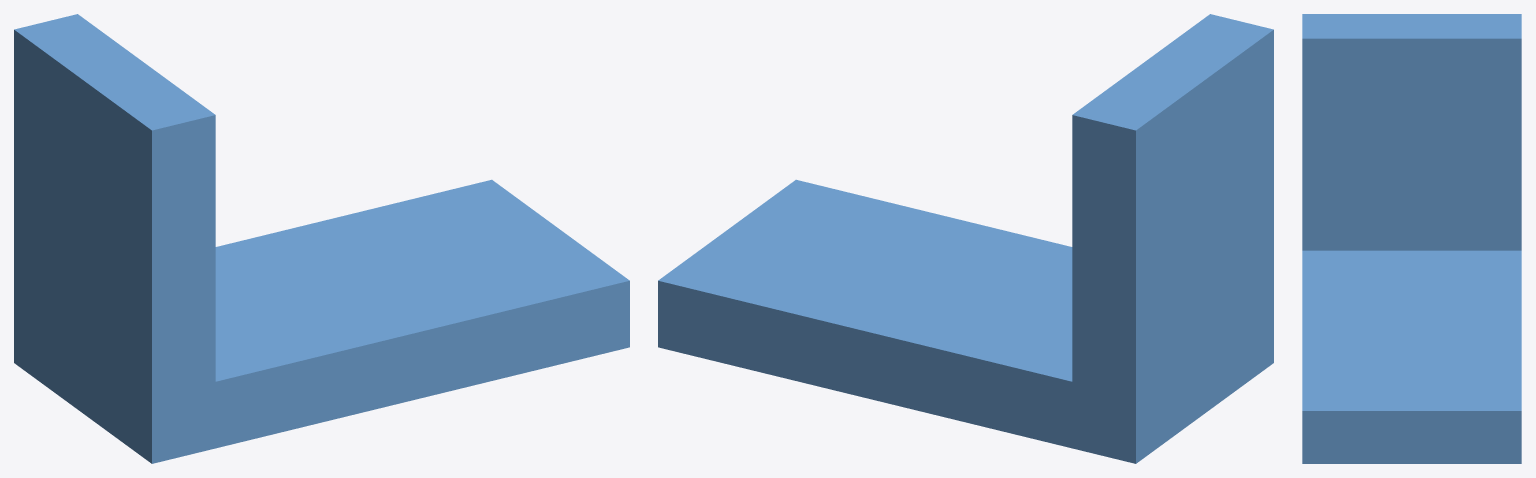
The model's file is bracket.glb.
3 renders of one model, left to right at view 1: azimuth 30°, elevation 25°; view 2: azimuth 150°, elevation 25°; view 3: azimuth 270°, elevation 25°, orthographic. The views are drawn at different scales.
Visible parts, largest first — view 1: Bracket; view 2: Bracket; view 3: Bracket.
Part boxes in pixels (x1,y1,x2,y2): Bracket: (14,14,629,463); Bracket: (658,14,1273,463); Bracket: (1302,14,1521,463).
Bounding box in the file's own units: 0.06 × 0.04 × 0.03.
